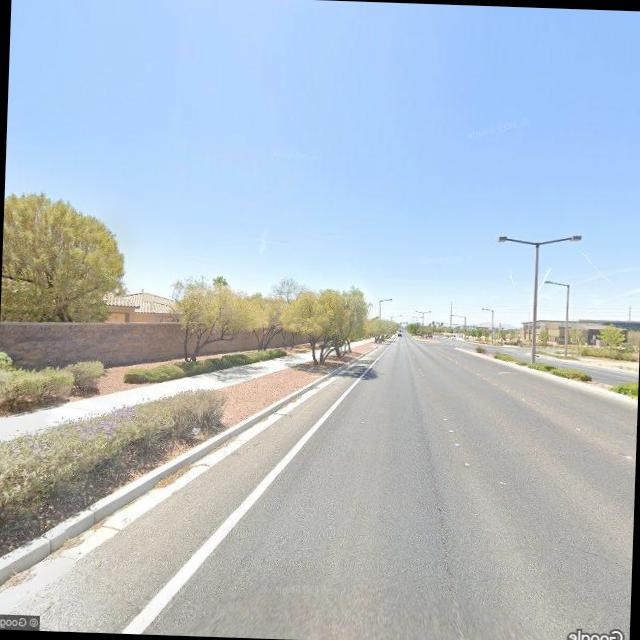pothole: (417, 437, 461, 594)
